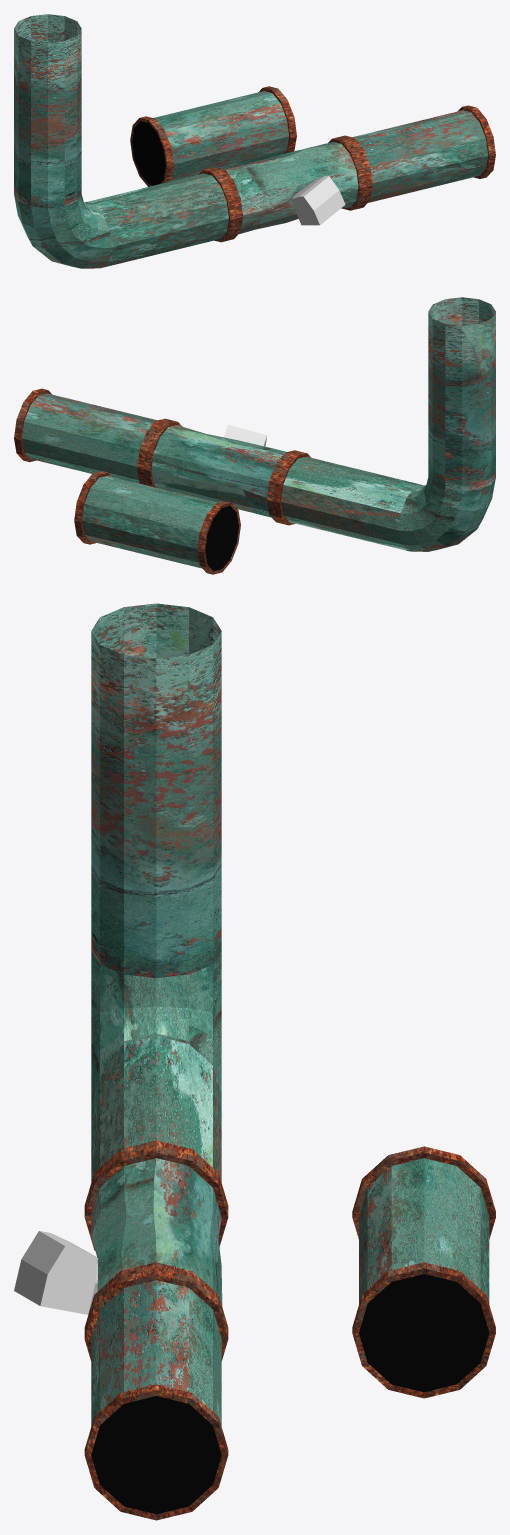
File: CoolantPipe.fbx
The picture shows the model from 3 angles, top to bottom: view 1: azimuth 30°, elevation 25°; view 2: azimuth 150°, elevation 25°; view 3: azimuth 270°, elevation 25°; orthographic projection. The views are drawn at different scales.
Parts seen in each view (by area): view 1: Pipe Exit, Pipe Entrace.002, Pipe Entrace.001, Broken Pipe, Cube; view 2: Pipe Exit, Pipe Entrace.002, Pipe Entrace.001, Broken Pipe, Cube; view 3: Pipe Exit, Pipe Entrace.001, Pipe Entrace.002, Broken Pipe, Cube.
Part boxes in pixels (x1,y1,x2,y2): Pipe Exit: (14,14,236,268); Pipe Entrace.002: (130,86,296,186); Pipe Entrace.001: (339,105,495,208); Broken Pipe: (209,137,366,240); Cube: (292,176,345,225); Pipe Exit: (273,297,495,551); Pipe Entrace.002: (74,471,240,574); Pipe Entrace.001: (14,388,170,484); Broken Pipe: (143,420,300,523); Cube: (224,424,266,446); Pipe Exit: (84,603,228,1210); Pipe Entrace.001: (84,1268,228,1520); Pipe Entrace.002: (352,1146,495,1398); Broken Pipe: (84,1146,228,1332); Cube: (14,1231,97,1314).
Size of the model in its own units: 1565 by 820 by 738.
Materials: 2 (2 with a texture image).
